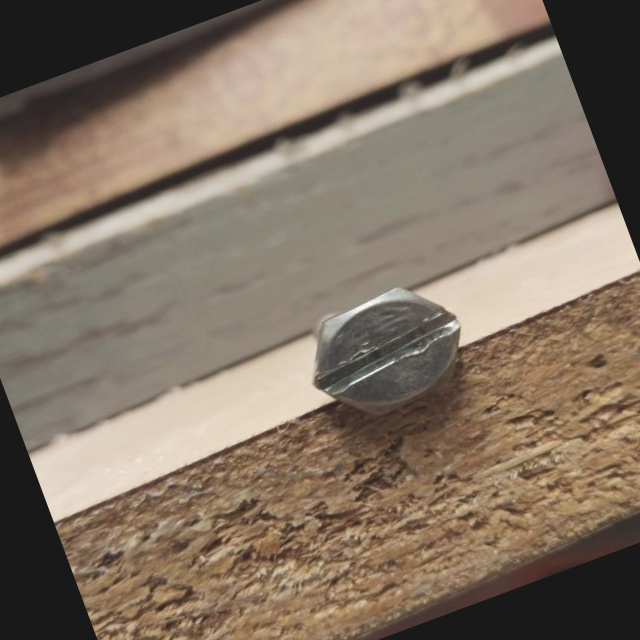duz: (291, 268, 483, 436)
